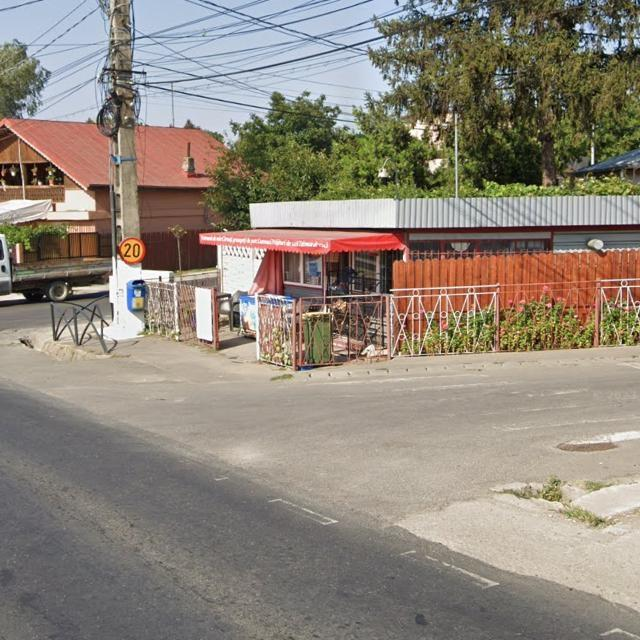forb_speed_over_20: (120, 237, 145, 265)
